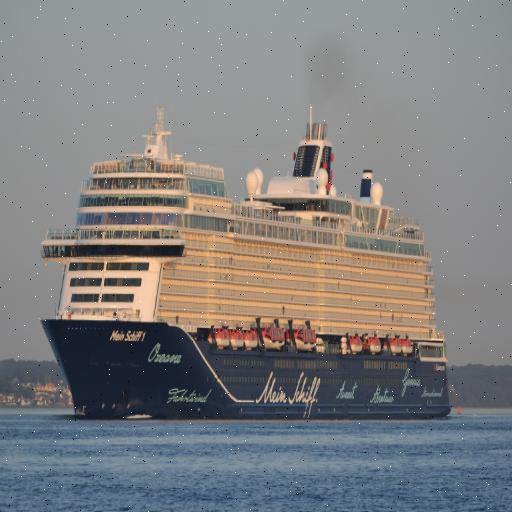cruises: (37, 115, 453, 427)
